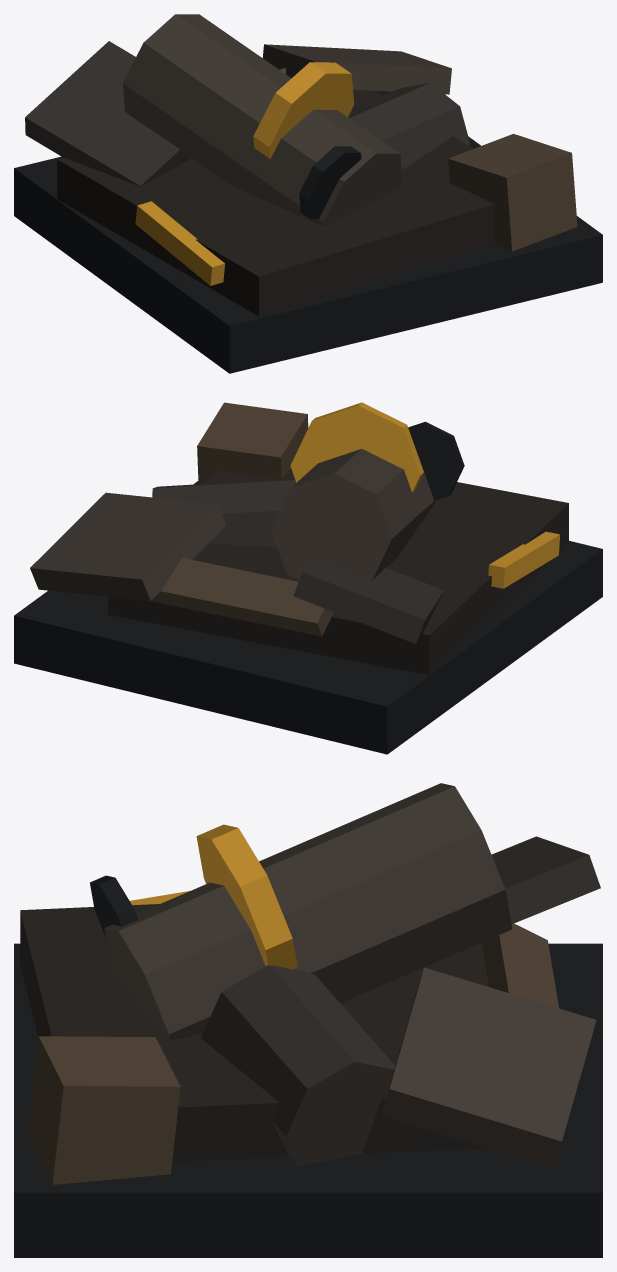
File: ruins_rocket.glb
The picture shows the model from 3 angles, top to bottom: view 1: azimuth 30°, elevation 25°; view 2: azimuth 150°, elevation 25°; view 3: azimuth 270°, elevation 25°; orthographic projection. The views are drawn at different scales.
Parts seen in each view (by area): view 1: body; view 2: body; view 3: body.
Part boxes in pixels (x1=…): body: x1=14, y1=14, x2=602, y2=373; body: x1=14, y1=402, x2=602, y2=754; body: x1=14, y1=783, x2=602, y2=1257.
Size of the model in its own units: 1.02 by 0.54 by 0.98.
